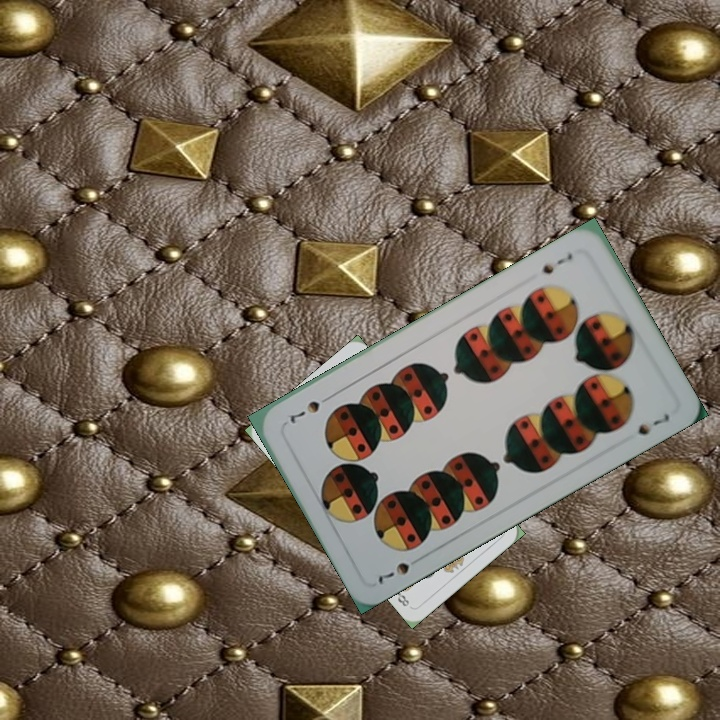S7: (373, 558, 413, 587), (538, 248, 576, 277)
